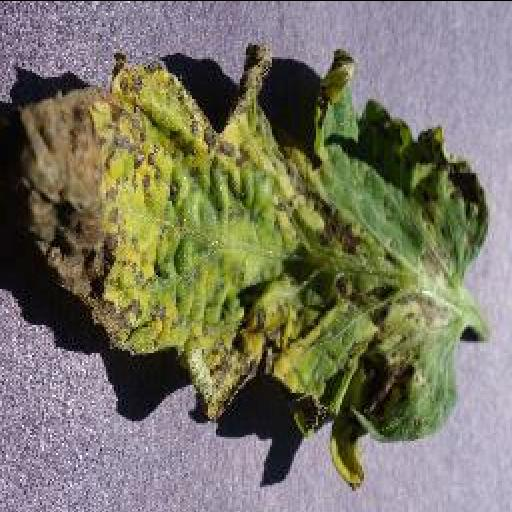disease_tomato: (8, 50, 488, 486)
